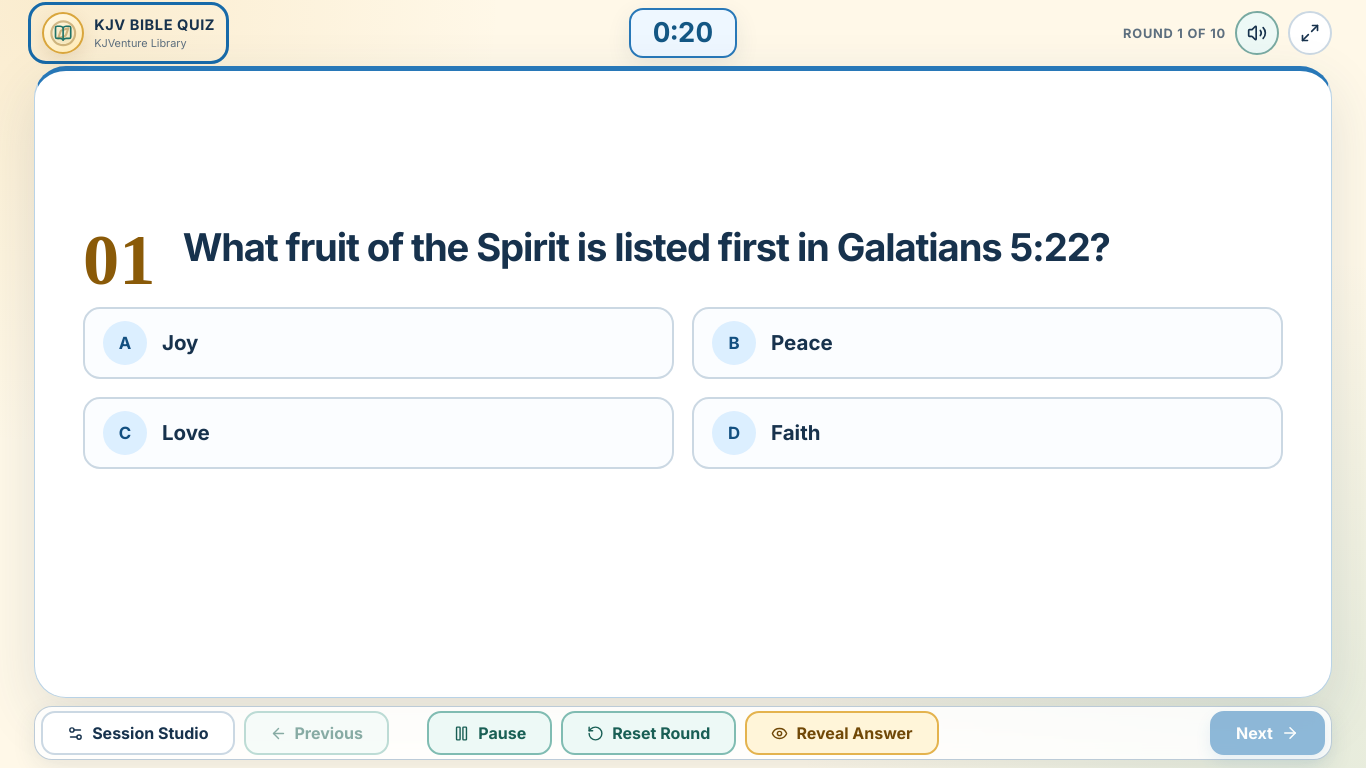
Test: hosted session integrity › confirms Leave with a paused recoverable snapshot
Click the button titled "Back to Library" at (129, 33), box left=34, top=8, right=223, bottom=58
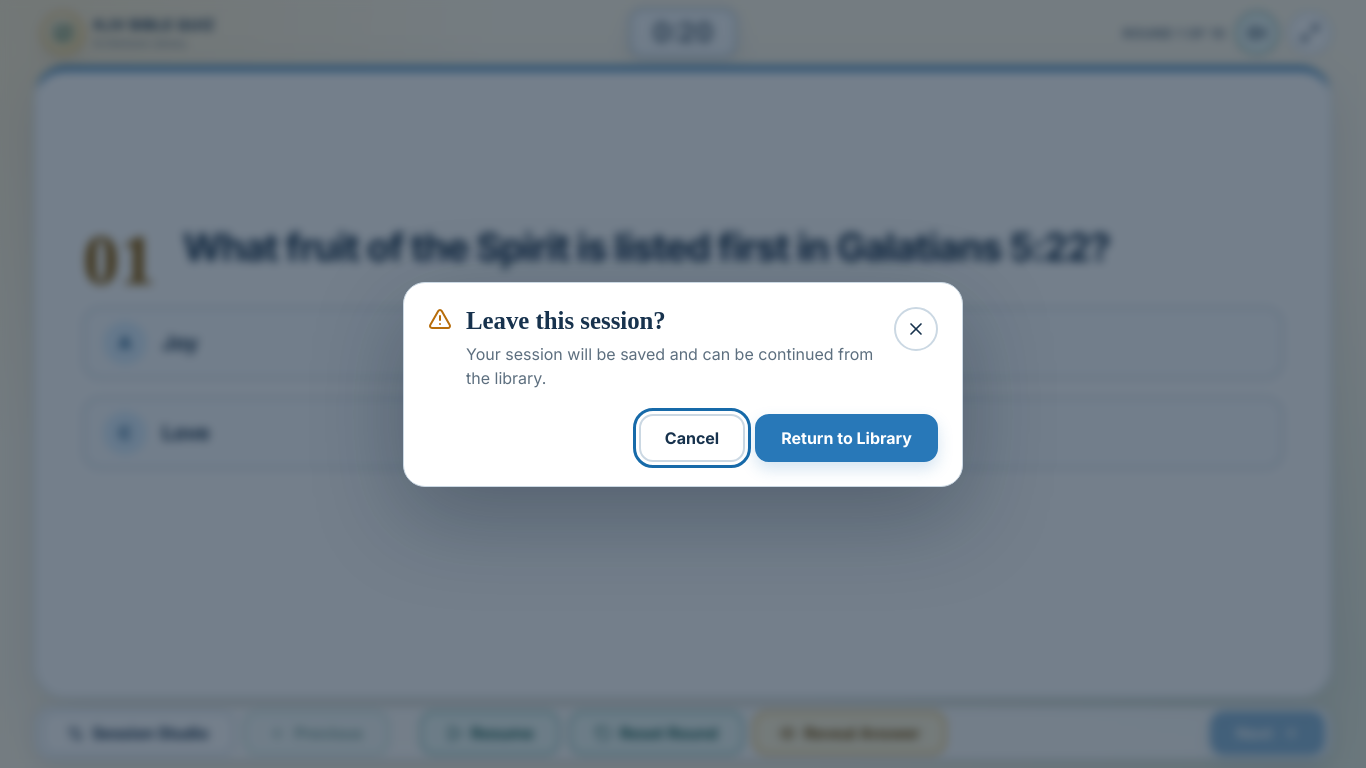
Check: the dialog "Leave this session?" is shown, box left=403, top=282, right=963, bottom=486
Click the button "Return to Library" at (847, 438), box left=755, top=414, right=938, bottom=462
(page scrolled)
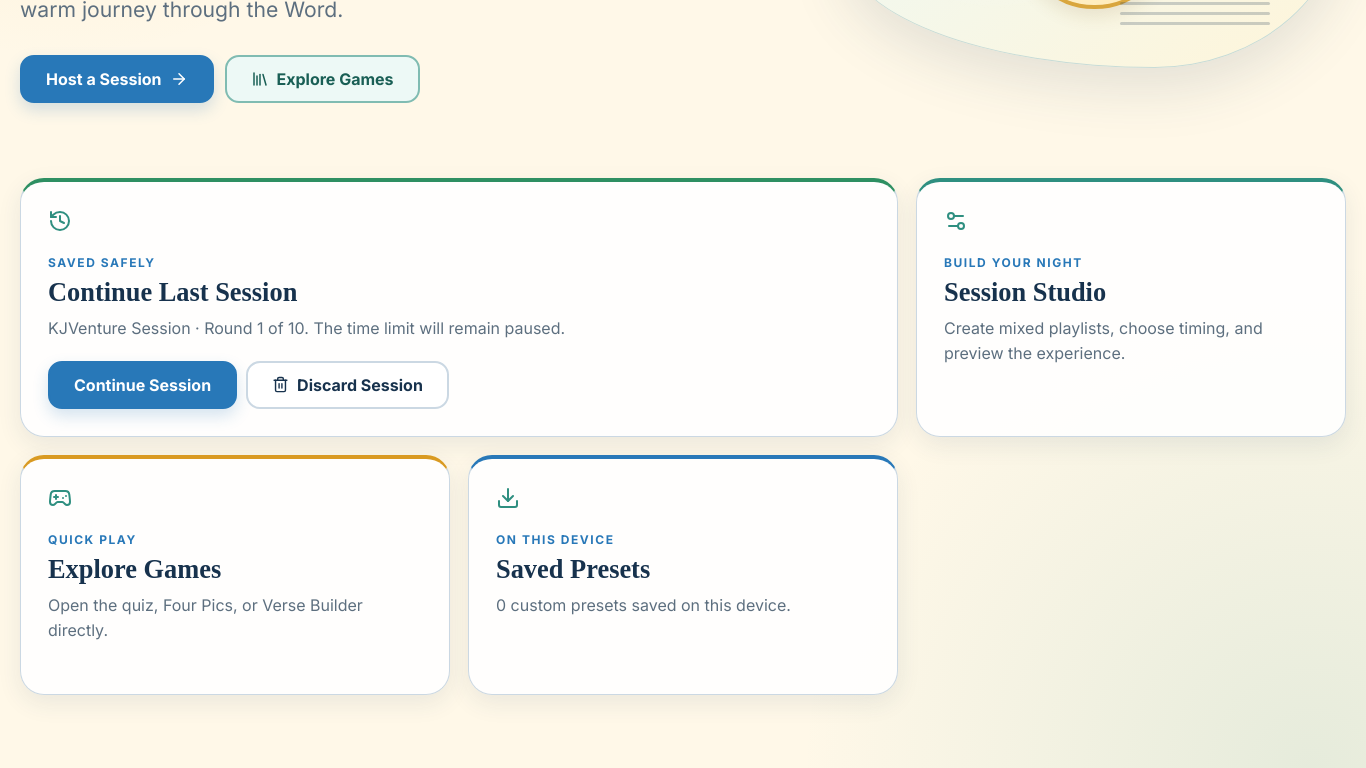
Check: the heading "Continue Last Session" is shown, box left=48, top=277, right=297, bottom=307
Check: the button "Continue Session" is enabled, box left=48, top=361, right=237, bottom=409
